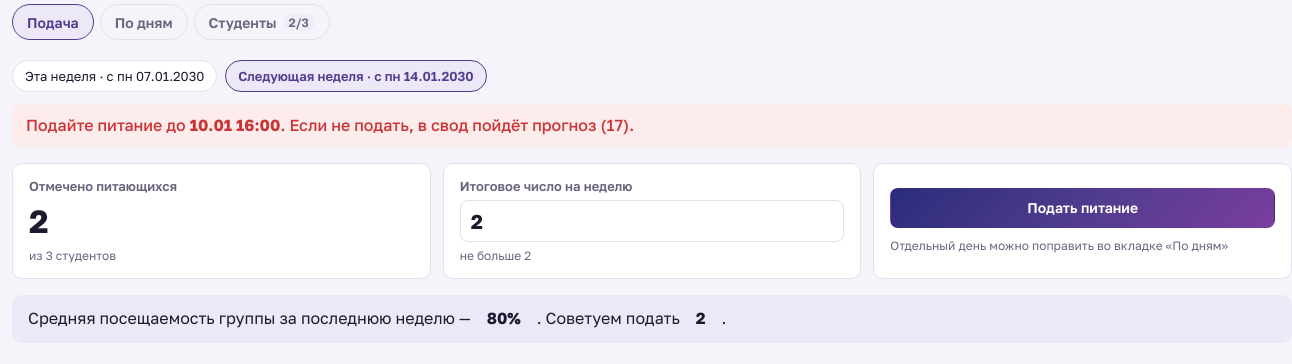
Test: GroupMealsPanel — куратор › день можно поправить, пока он открыт; закрытый день — только число
Click the tab "По дням" at coordinates (144, 22), box [100,4,188,40]
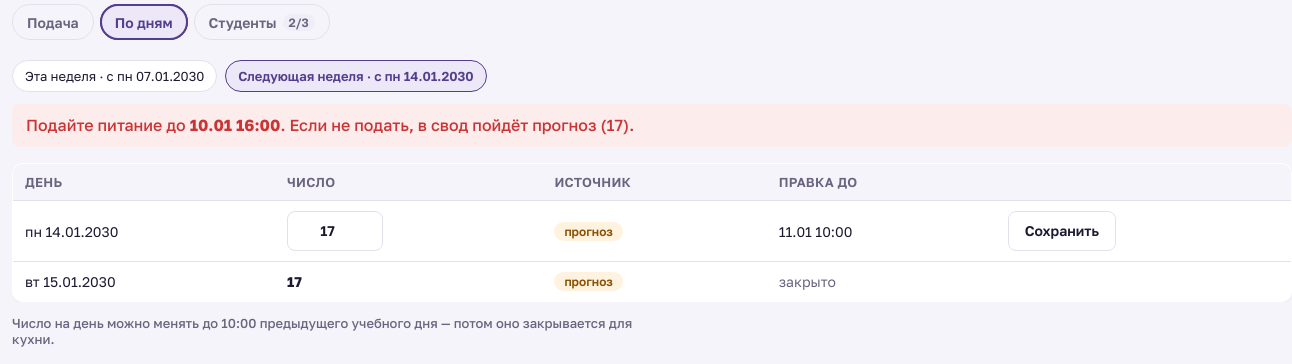
Check: the text "закрыто" is shown, box [779,273,836,290]
Replace the text in the number field named "Число на 14.01.2030" with "15" at coordinates (335, 231), box [287,211,383,251]
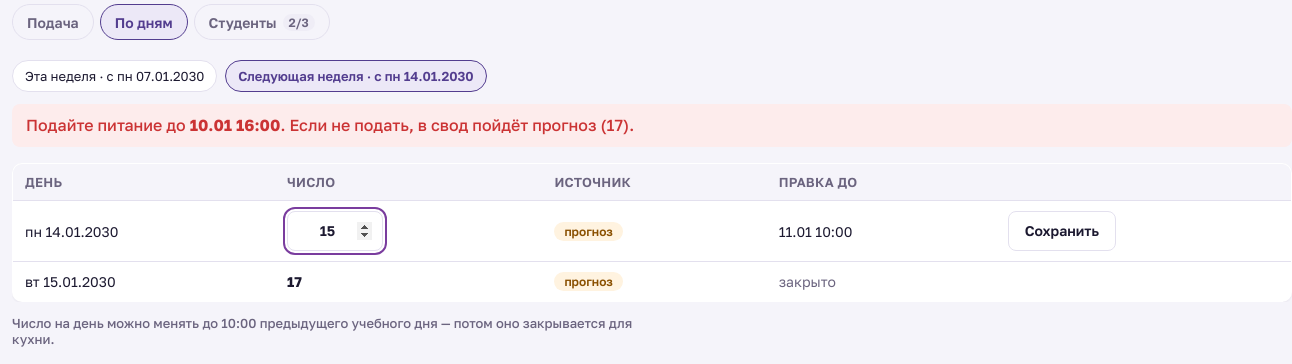
Click the button "Сохранить" at coordinates (1062, 231), box [1008,211,1116,251]
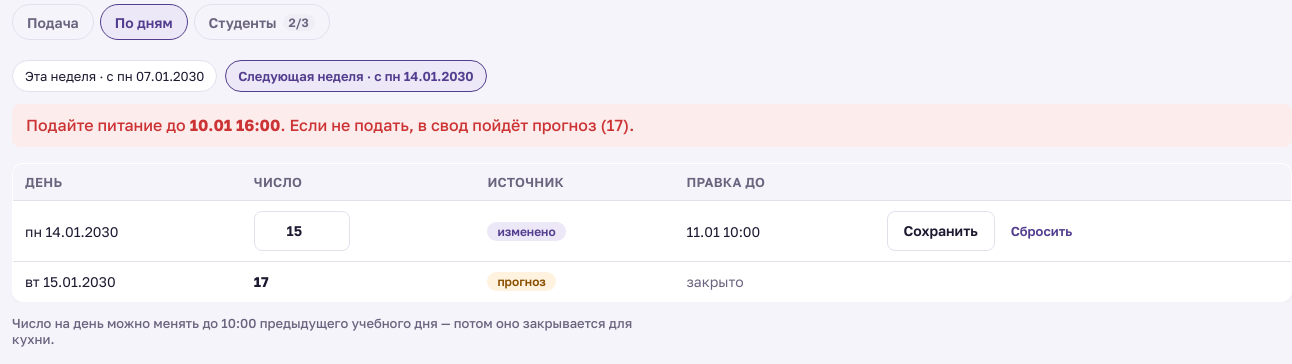
Check: the button "Сбросить" is shown, box [1007,221,1076,241]
